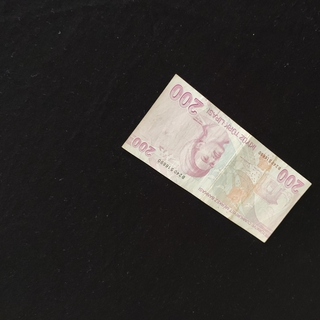200TLBack: (121, 73, 312, 243)
